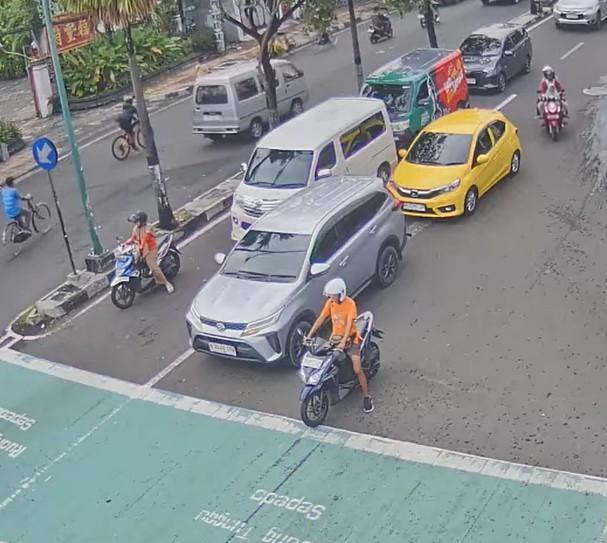Helmet: (323, 277, 346, 302), (128, 210, 147, 225), (542, 65, 554, 78)
Number Plate: (208, 342, 236, 355), (302, 354, 323, 368), (402, 202, 426, 212), (467, 78, 476, 84), (566, 14, 577, 18)
Rearview Mirror: (310, 263, 330, 277), (316, 168, 332, 178), (214, 253, 225, 264), (476, 154, 488, 164), (417, 98, 429, 106), (398, 148, 407, 158), (240, 162, 246, 173), (504, 50, 512, 55)
